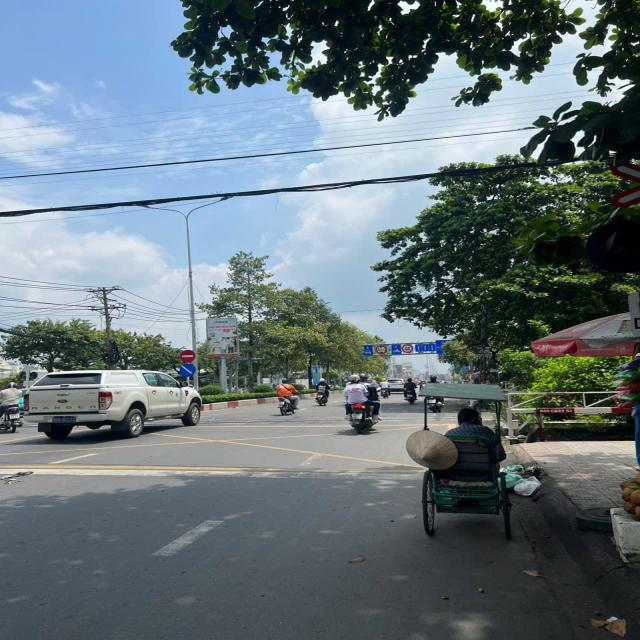car: (33, 372, 204, 433), (386, 377, 404, 392)
motobyte: (340, 372, 380, 437), (1, 382, 22, 434), (270, 379, 298, 417), (426, 373, 444, 412), (316, 378, 329, 406), (404, 378, 418, 403), (380, 379, 390, 398)
non-motorized vehicle: (405, 390, 530, 540)
